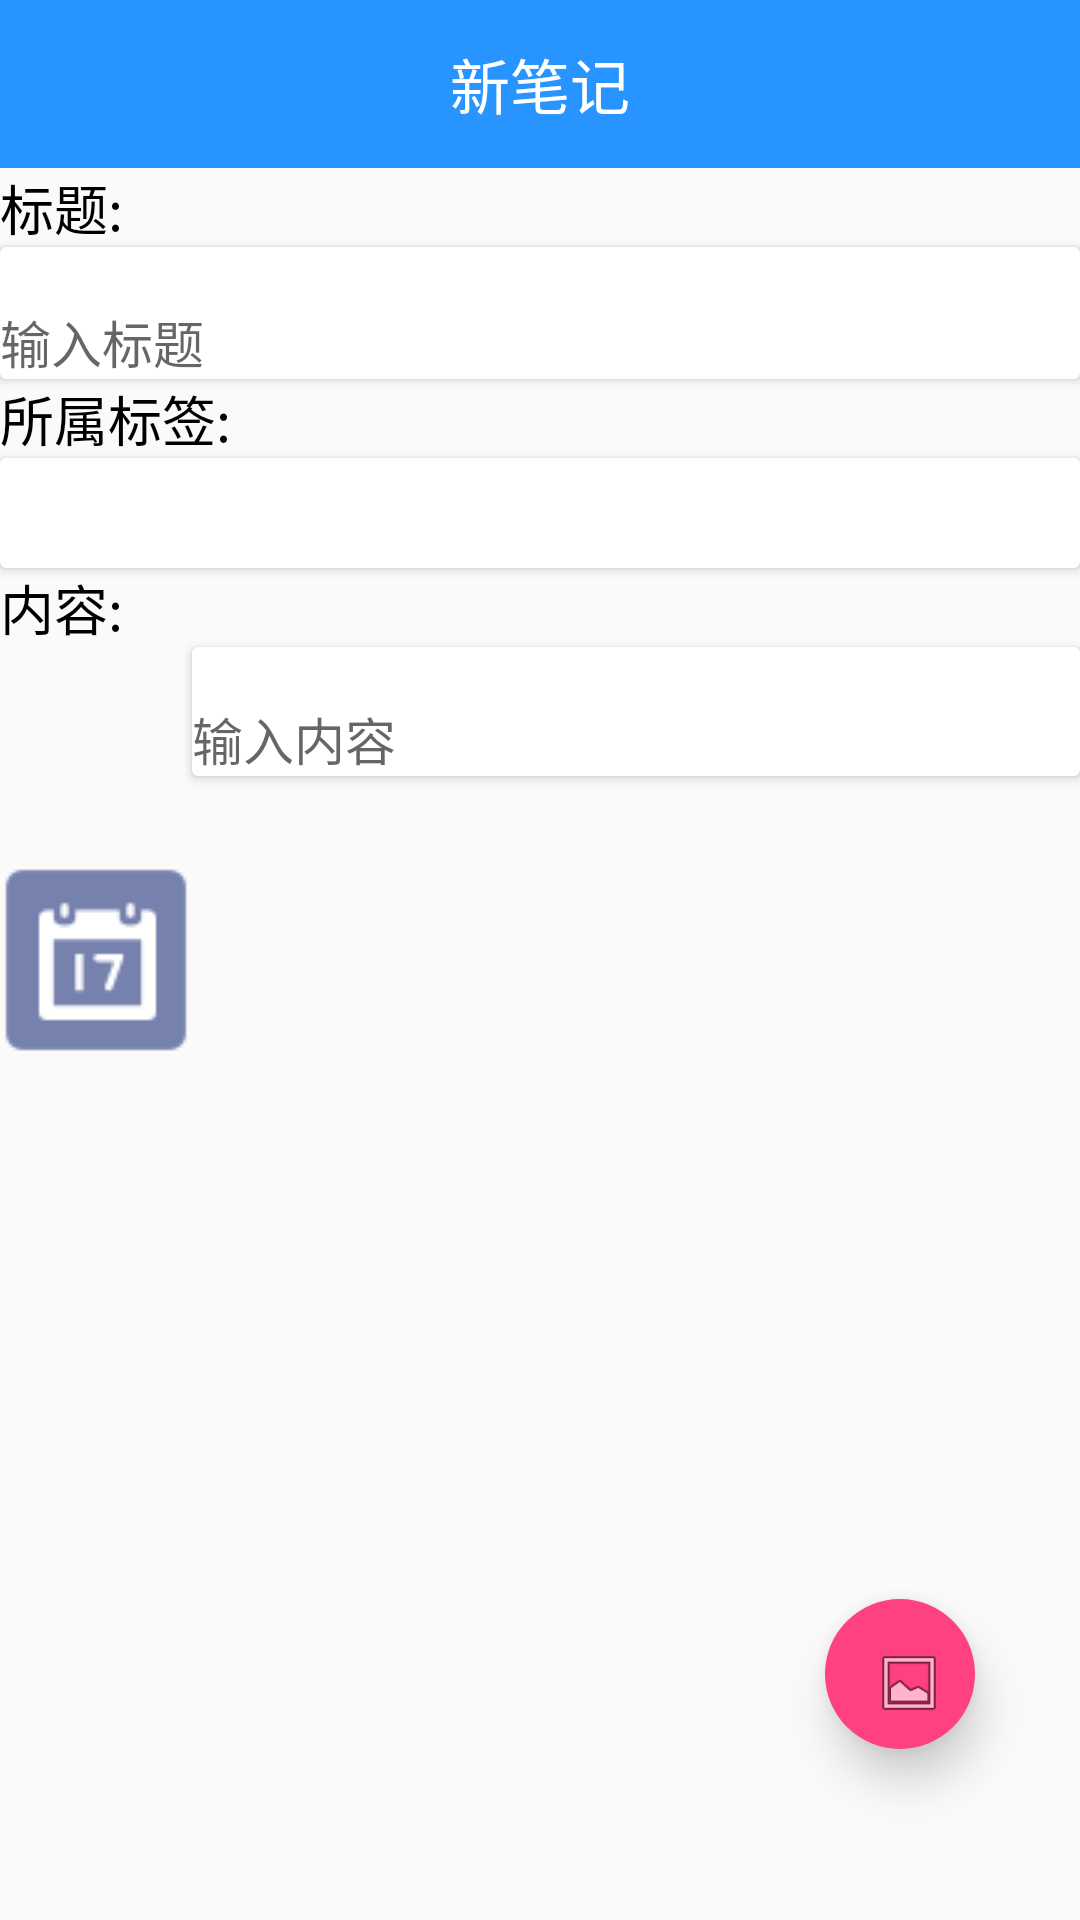

Locate icon controls on the screen. Image size 1080 × 1920, boxes as (x1, y1, x2, y2).
calendar: (5, 869, 187, 1051)
gallery: (825, 1599, 975, 1749)
